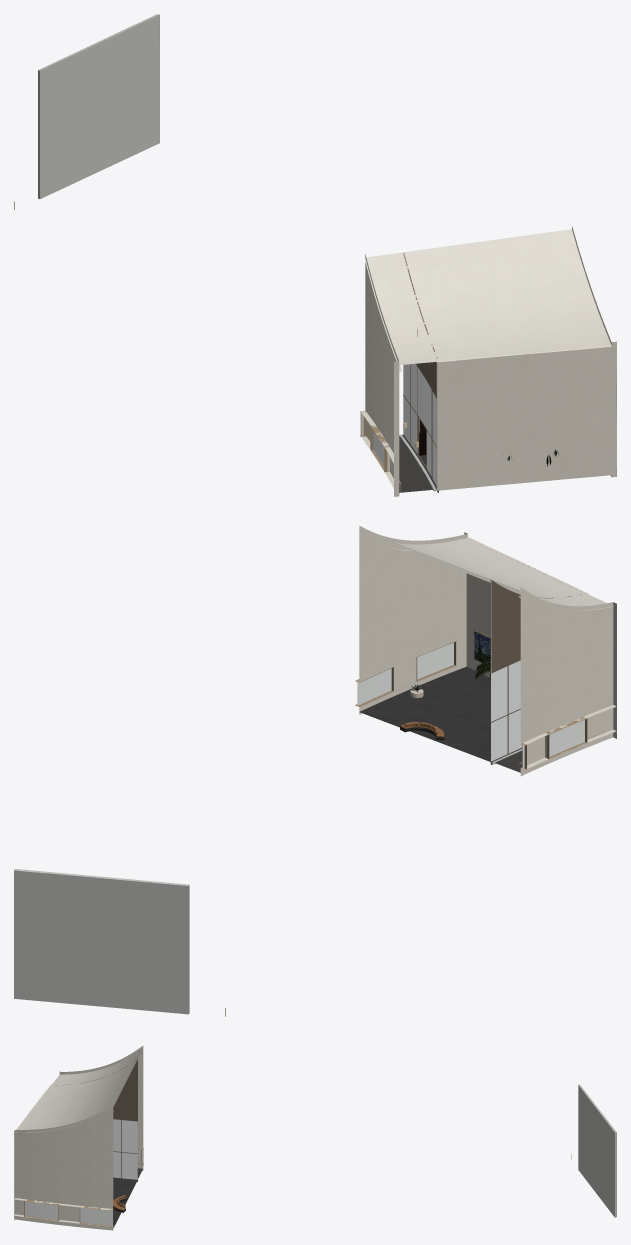
3 renders of one model, top to bottom at view 1: azimuth 30°, elevation 25°; view 2: azimuth 150°, elevation 25°; view 3: azimuth 270°, elevation 25°, orthographic. The views are drawn at different scales.
Parts seen in each view (by area): view 1: c1020; view 2: c1020; view 3: c1020.
Part boxes in pixels (left/top/right/bottom): c1020: left=14, top=14, right=616, bottom=496; c1020: left=14, top=525, right=616, bottom=1016; c1020: left=14, top=1046, right=616, bottom=1230.
Bounding box in the file's own units: 23.67 × 19.53 × 83.74.
Materials: 12 (2 with a texture image).
